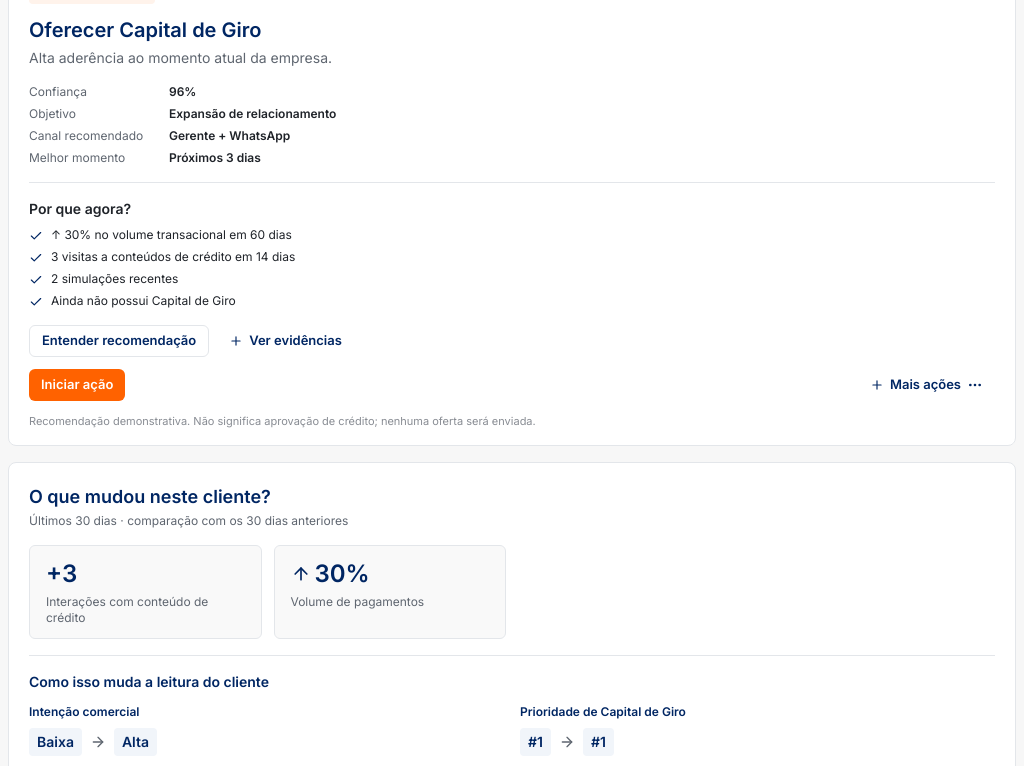
Test: CustomerDetailPage › starts an action (simulated) and records ACTIVATED
(page scrolled)
Click the button "Iniciar ação".
click(77, 385)  # box [29, 369, 125, 401]
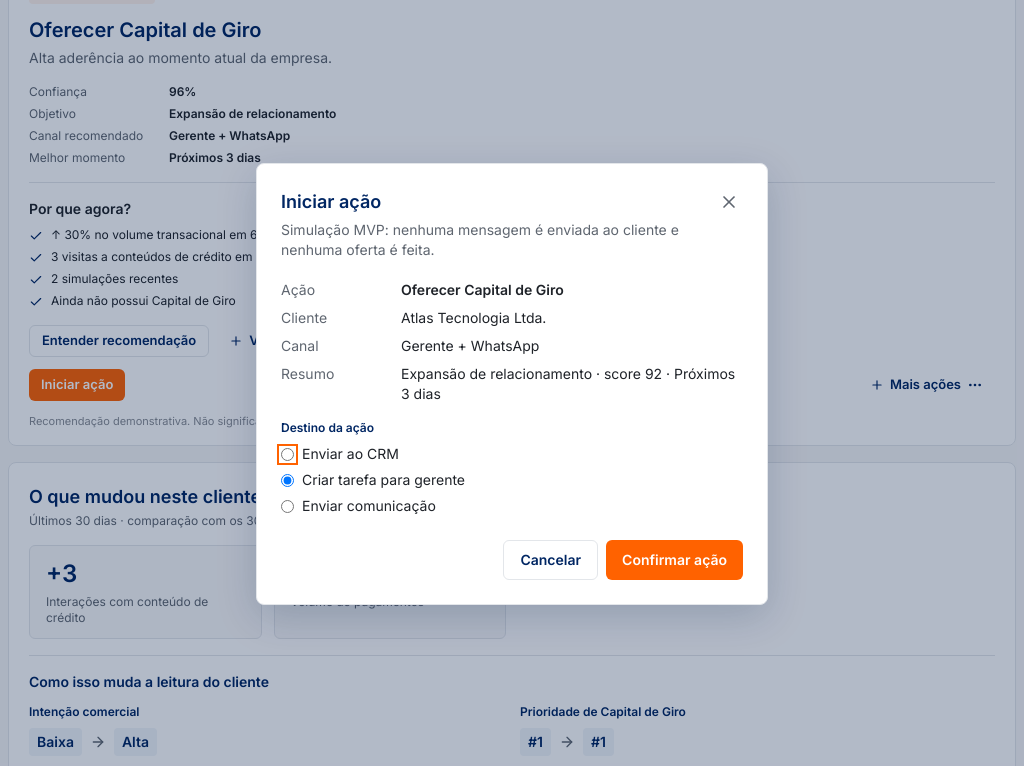
Click the radio button labelled "Enviar ao CRM".
click(288, 454)  # box [281, 448, 294, 460]
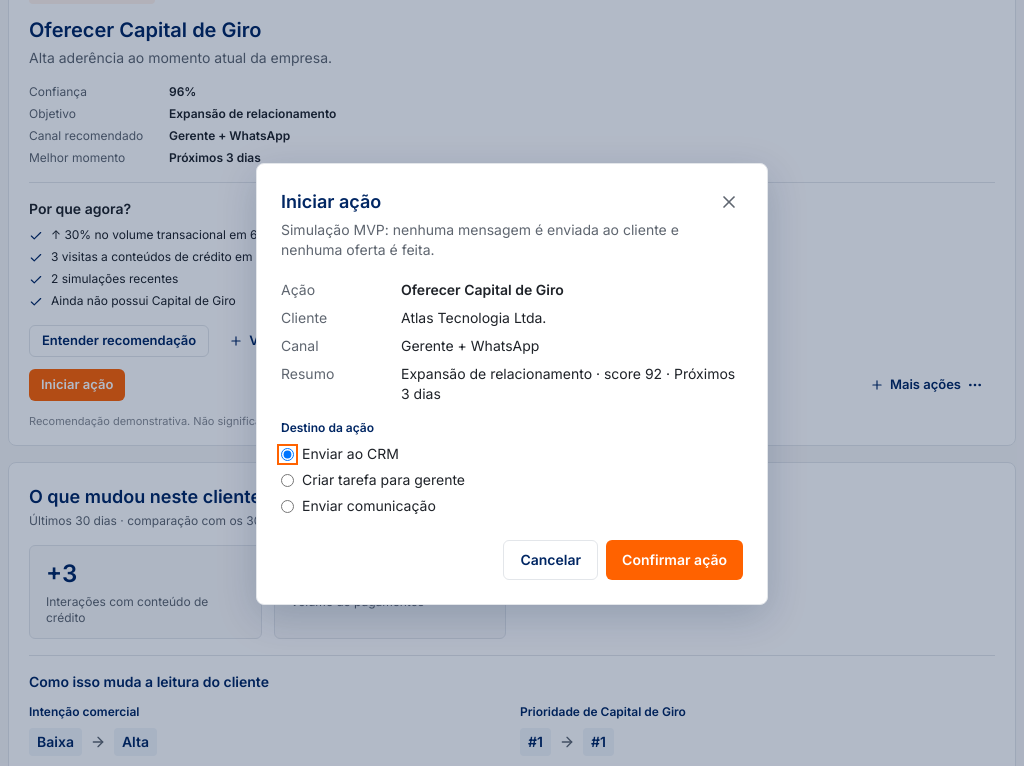
Click the button "Confirmar ação".
click(675, 560)  # box [606, 540, 743, 580]
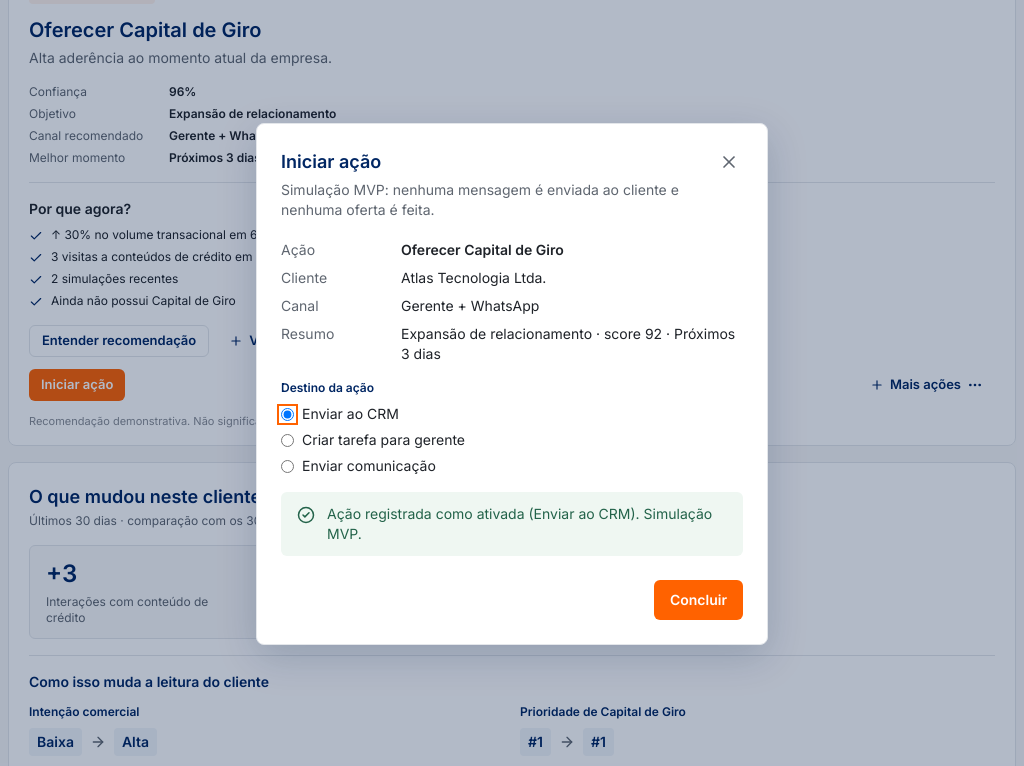
Check: the text "Ação registrada como ativada (Enviar ao CRM). Simulação MVP." is shown, box [327, 504, 727, 544]
